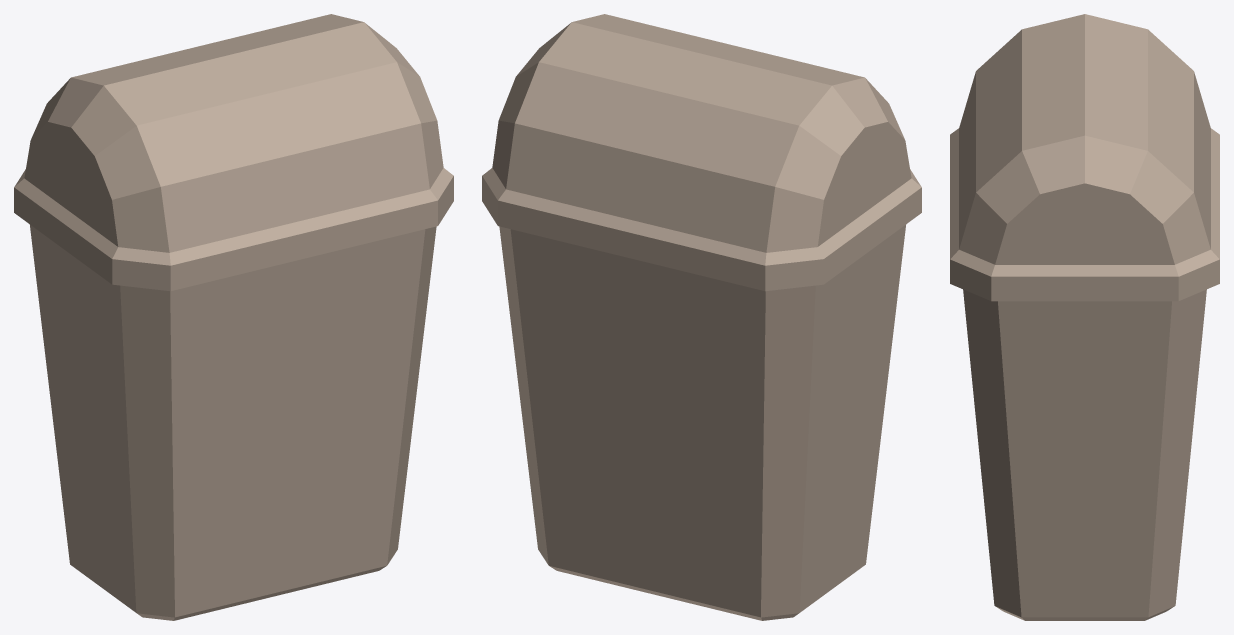
The model's file is Prop_Kitchen_Trashcan.obj.
3 views of the same model, side by side, from view 1: azimuth 30°, elevation 25°; view 2: azimuth 150°, elevation 25°; view 3: azimuth 270°, elevation 25° (orthographic). The views are drawn at different scales.
Parts seen in each view (by area): view 1: object1, object2; view 2: object1, object2; view 3: object2, object1.
Part boxes in pixels (<box>): object1: <box>29,224,436,620</box>; object2: <box>14,14,453,291</box>; object1: <box>499,224,906,620</box>; object2: <box>482,14,921,291</box>; object2: <box>950,14,1219,301</box>; object1: <box>963,289,1206,620</box>.
Bounding box in the file's own units: 0.525 × 0.75 × 0.375.
